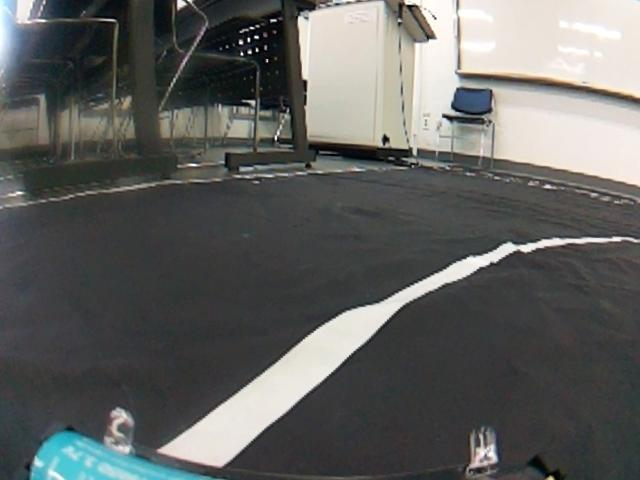right: (4, 230, 640, 480)
